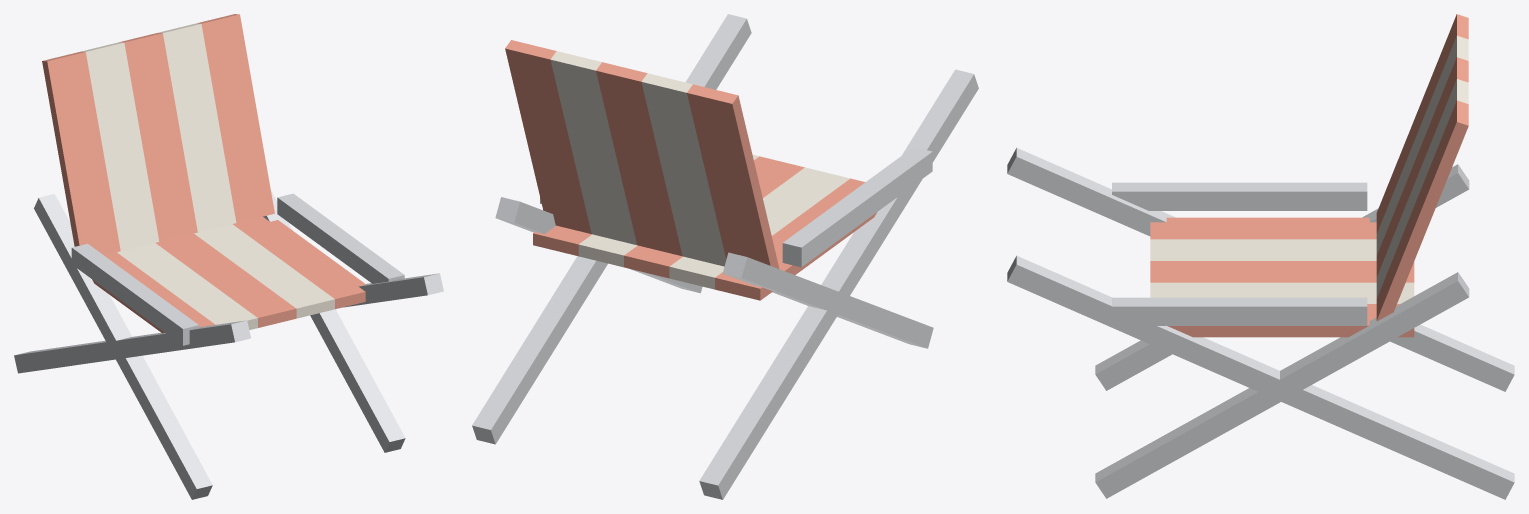
File: lounge_chair.glb
The picture shows the model from 3 angles, left to right: view 1: azimuth 30°, elevation 25°; view 2: azimuth 150°, elevation 25°; view 3: azimuth 270°, elevation 25°; orthographic projection. The views are drawn at different scales.
Parts seen in each view (by area): view 1: lounge_chair; view 2: lounge_chair; view 3: lounge_chair.
Boxes of the visible parts, left/top/right/bottom form: lounge_chair: left=14, top=14, right=443, bottom=499; lounge_chair: left=472, top=14, right=978, bottom=499; lounge_chair: left=1007, top=14, right=1514, bottom=499.
Bounding box in the file's own units: 0.69 × 0.9687 × 1.19.
